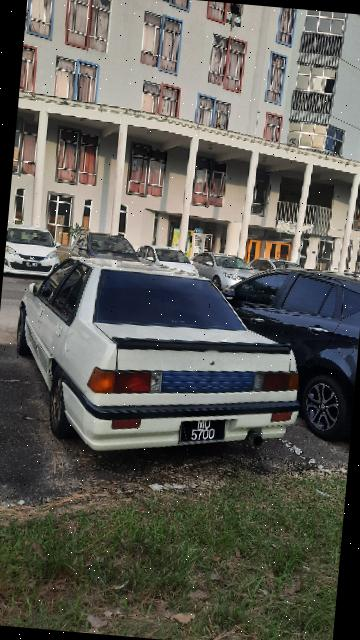License_Plate: (174, 409, 234, 450)
car: (1, 251, 309, 466), (210, 261, 360, 441), (5, 218, 63, 285), (197, 252, 263, 309), (139, 240, 203, 293), (67, 233, 137, 281)
